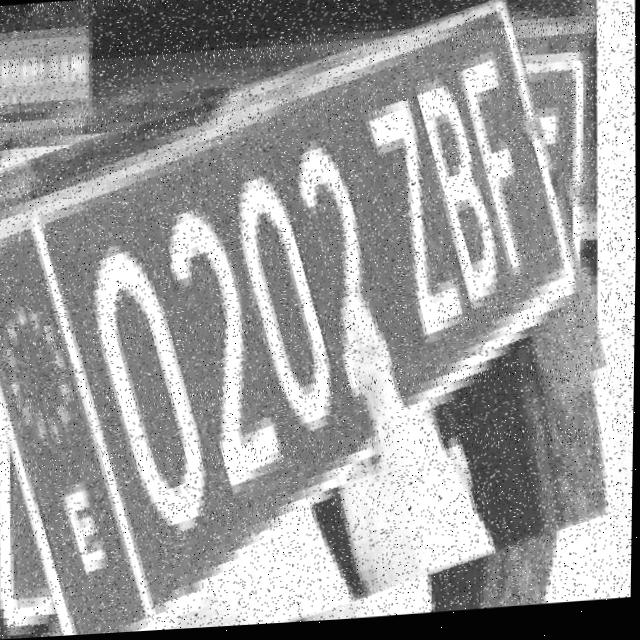LicensePlate: (0, 26, 623, 640)
